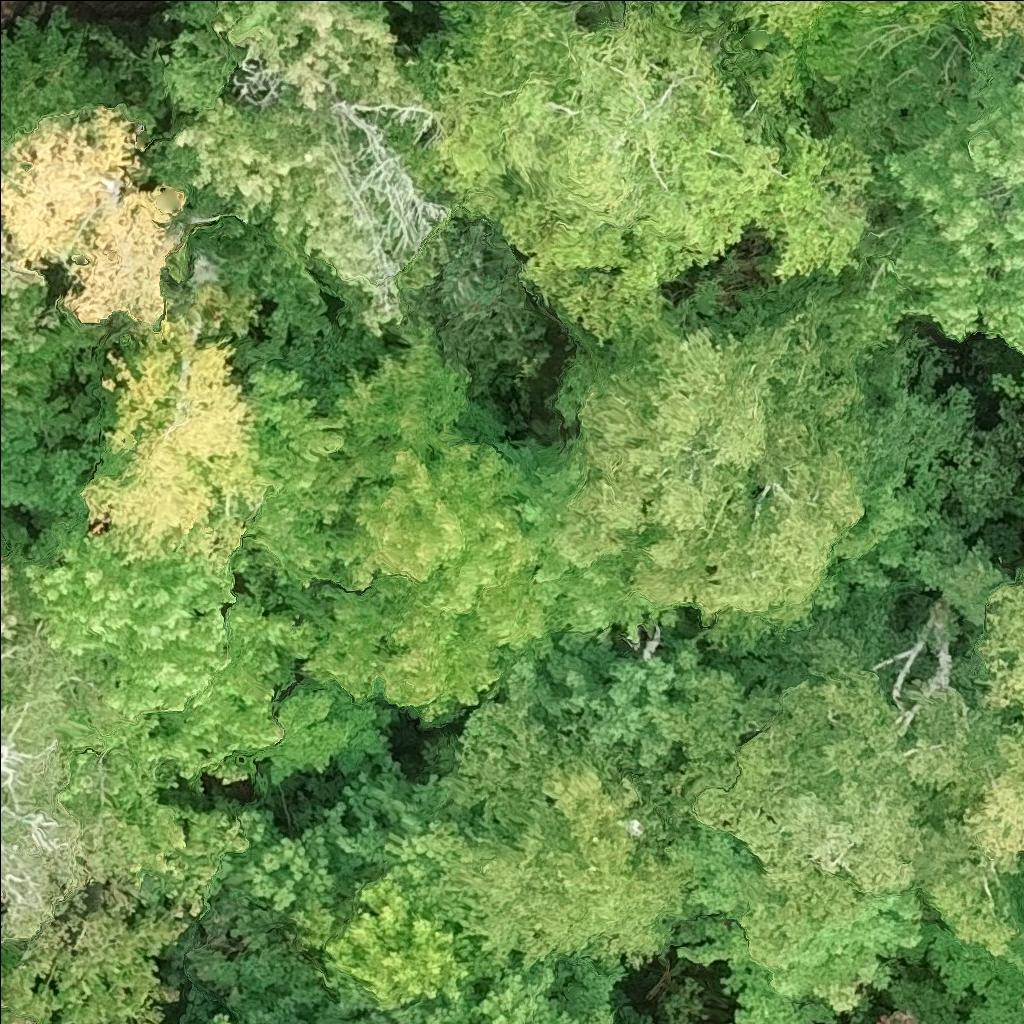crown: (432, 0, 776, 334), (686, 641, 1020, 957), (299, 442, 674, 718), (172, 0, 451, 335), (555, 317, 863, 616), (231, 335, 466, 590), (832, 34, 1023, 347), (84, 284, 278, 576), (451, 765, 692, 970), (676, 835, 922, 1023), (23, 526, 241, 720), (0, 109, 188, 329), (147, 592, 351, 786), (0, 638, 108, 935), (240, 767, 423, 910), (0, 265, 93, 516), (0, 913, 185, 1023), (960, 567, 1023, 867), (753, 132, 873, 281), (731, 0, 835, 47), (0, 550, 24, 645), (977, 0, 1023, 39), (995, 375, 1023, 403), (880, 1016, 921, 1023), (214, 1016, 226, 1023)
